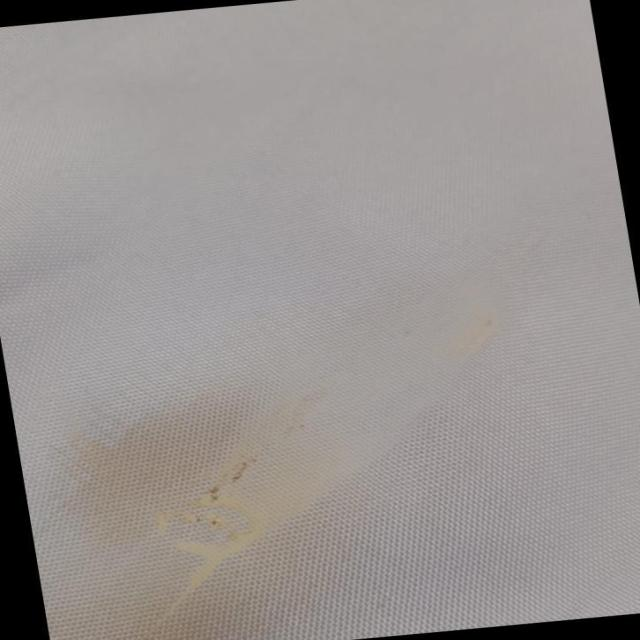stain: (13, 356, 425, 640)
